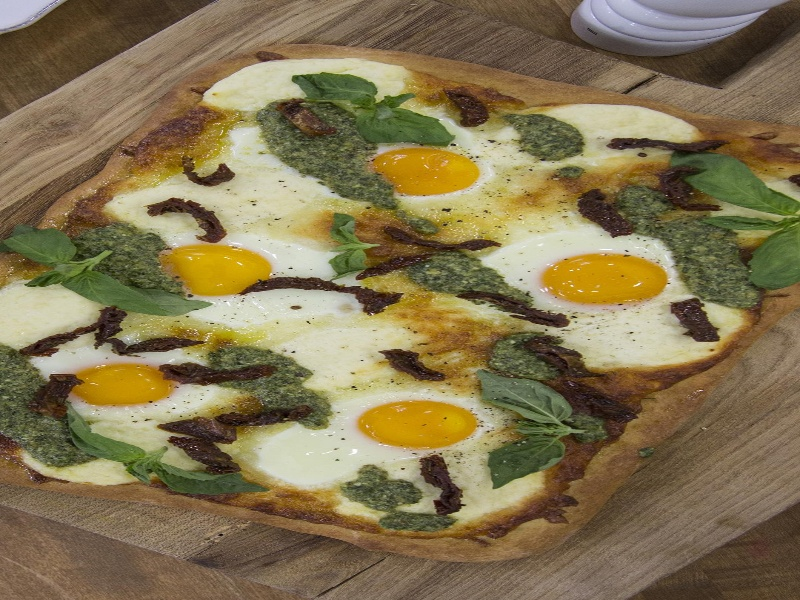oeuf: (335, 389, 494, 456), (540, 239, 674, 318), (369, 134, 509, 207), (155, 234, 288, 305), (73, 351, 183, 416)
